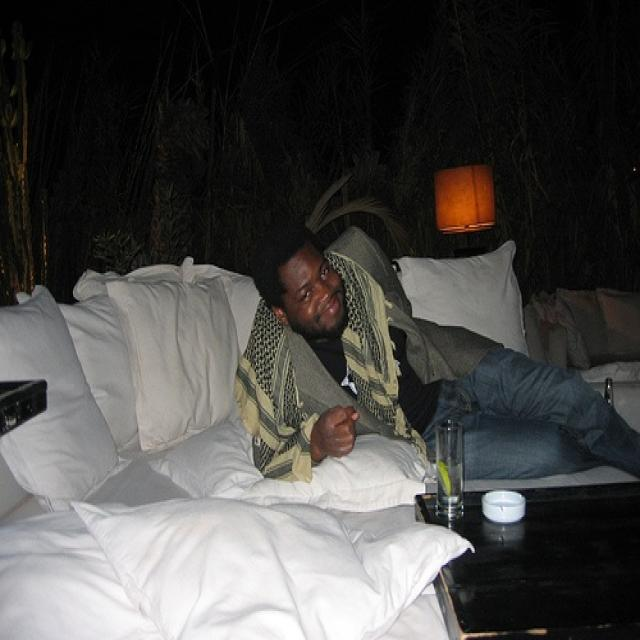sofa: (1, 239, 639, 638)
